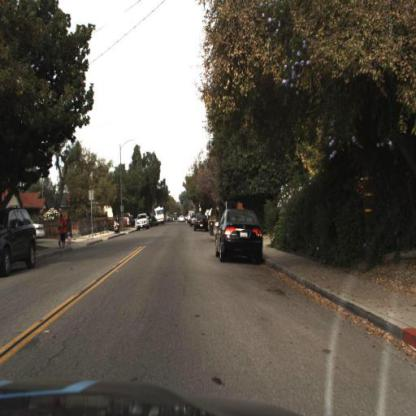car: (214, 209, 263, 263), (30, 219, 48, 242), (194, 211, 211, 233), (135, 212, 151, 231)
pedestrian: (57, 209, 69, 255), (56, 211, 68, 252), (112, 211, 122, 237), (67, 231, 74, 254)
truck: (155, 203, 166, 226)
